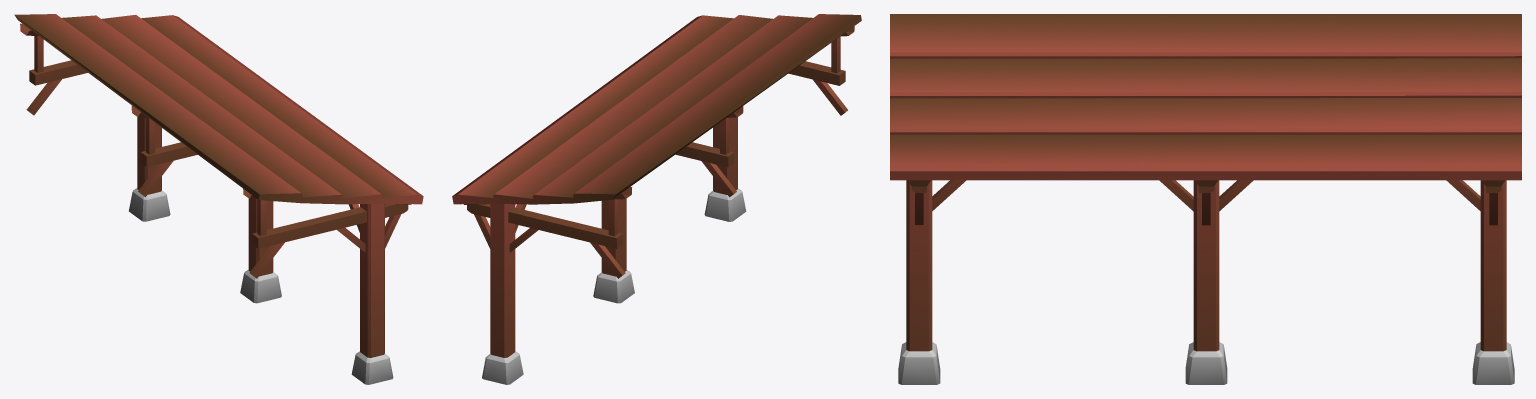
Rendered from Pergola_Large.fbx.
3 renders of one model, left to right at view 1: azimuth 30°, elevation 25°; view 2: azimuth 150°, elevation 25°; view 3: azimuth 270°, elevation 25°, orthographic. The views are drawn at different scales.
Visible parts, largest first — view 1: Pergola_Large4; view 2: Pergola_Large4; view 3: Pergola_Large4.
Part boxes in pixels (x1,y1,x2,y2): Pergola_Large4: [14, 14, 423, 384]; Pergola_Large4: [452, 14, 861, 384]; Pergola_Large4: [890, 14, 1521, 384].
Bounding box in the file's own units: 3.1 × 3.94 × 7.94.
